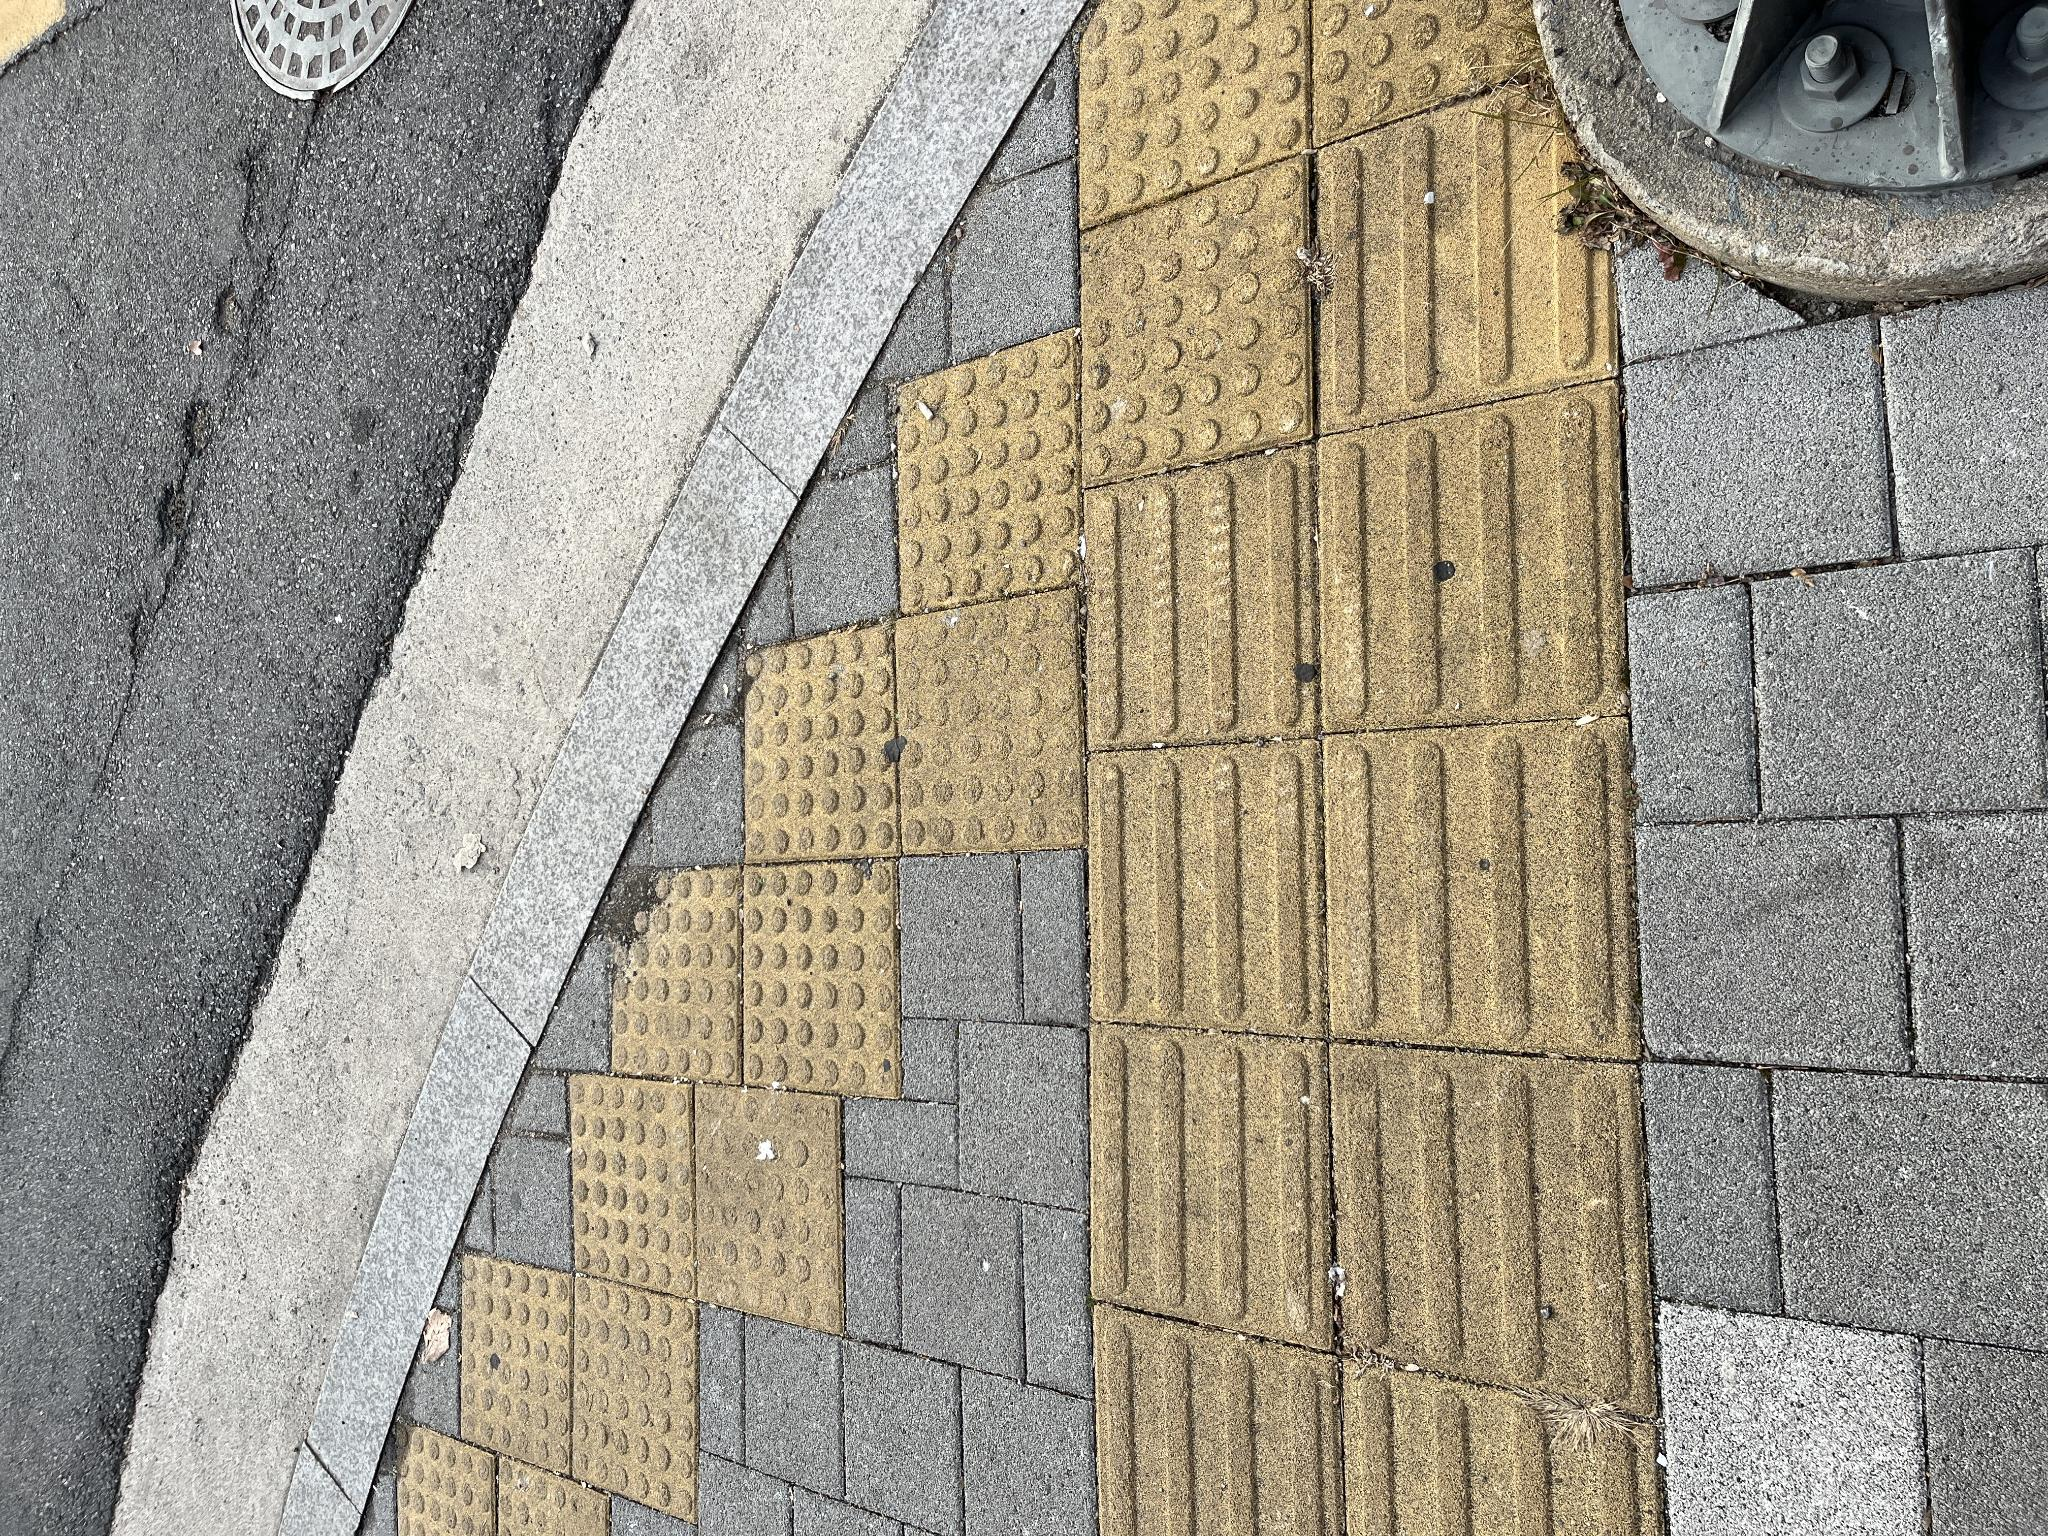Stop block normal: (1055, 1083, 1376, 1305), (440, 745, 672, 895), (239, 570, 461, 695)
Straight block normal: (189, 1092, 508, 1326), (489, 1328, 810, 1536)
